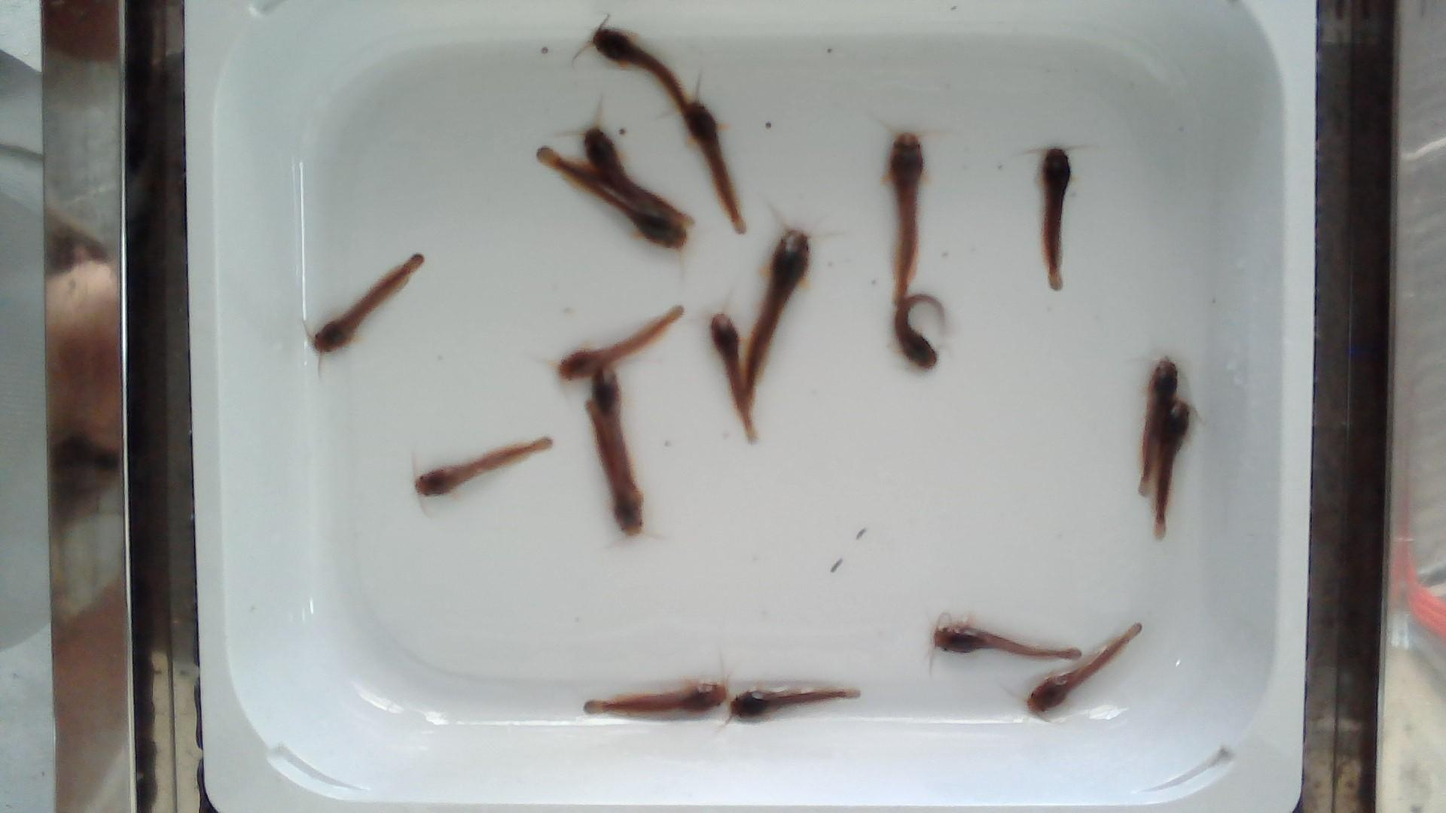lele: (538, 146, 686, 247), (744, 229, 810, 417), (585, 126, 692, 228), (314, 255, 425, 352), (1029, 624, 1142, 714), (561, 306, 685, 383), (683, 101, 747, 235), (416, 436, 553, 497), (593, 28, 687, 112), (586, 400, 642, 536), (710, 313, 758, 446), (889, 133, 924, 307), (933, 625, 1083, 662), (1138, 360, 1177, 498), (592, 365, 636, 485), (1153, 403, 1189, 540), (585, 683, 727, 716), (1042, 148, 1072, 291), (730, 688, 861, 718), (893, 295, 946, 369)
